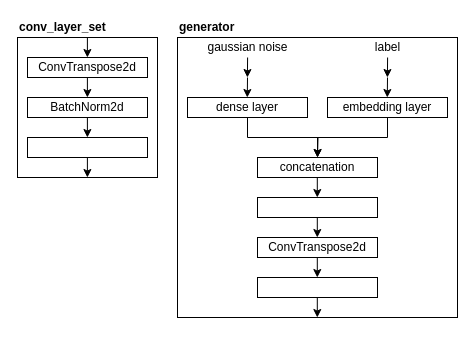
This 475x343 diagram has some shape labels left out. The shapes that lost their labels are listed below. From the top down, each one's centre as x and y in pixels, then its label:
(x=87, y=147): Relu
(x=317, y=207): conv_layer_set (x4)
(x=317, y=287): Tanh
